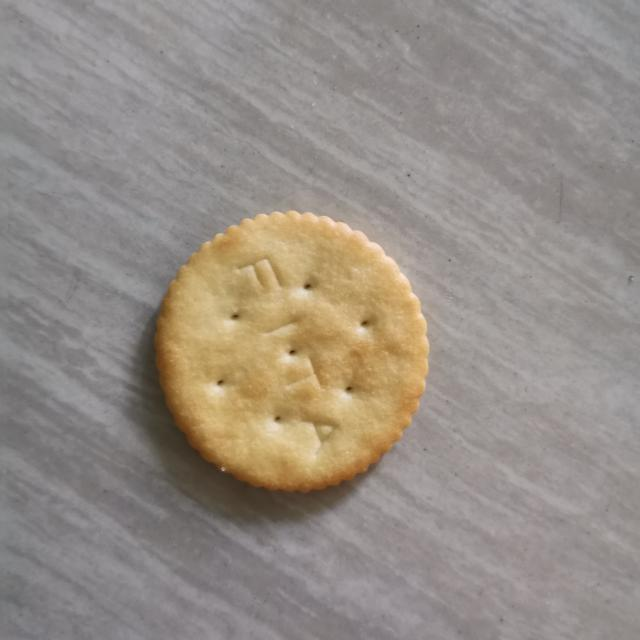Intact: (149, 199, 446, 504)
